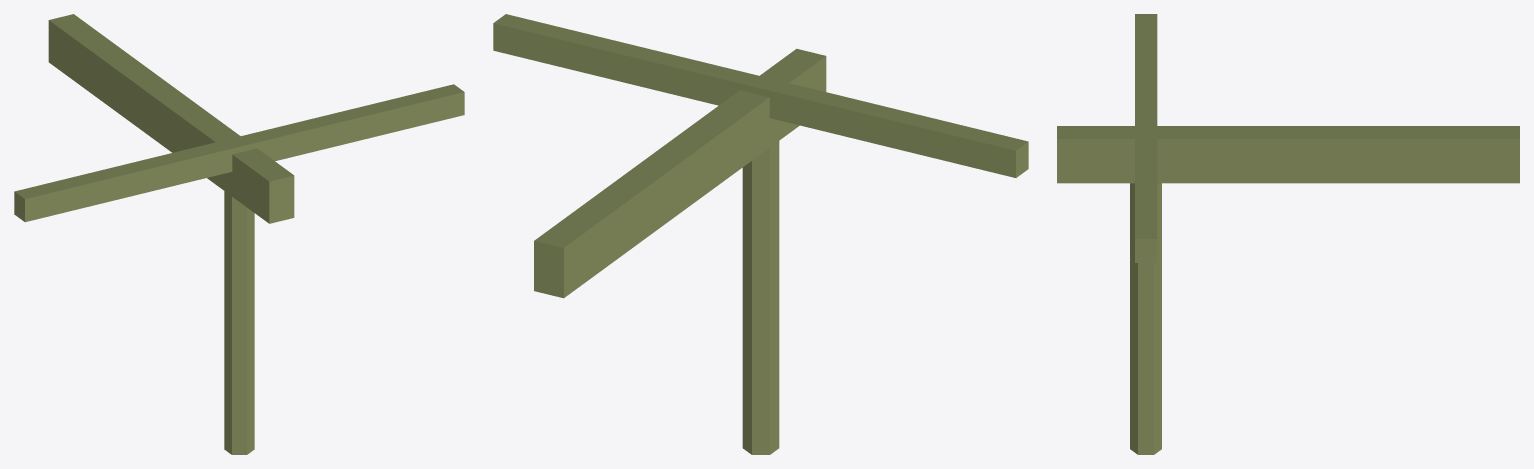
Rendered from SM_KitMarquesina_v3_LOD1.fbx.
The picture shows the model from 3 angles, left to right: view 1: azimuth 30°, elevation 25°; view 2: azimuth 150°, elevation 25°; view 3: azimuth 270°, elevation 25°; orthographic projection. The views are drawn at different scales.
Visible parts, largest first — view 1: SM_bloques.kit_marquesina_v3_LOD1; view 2: SM_bloques.kit_marquesina_v3_LOD1; view 3: SM_bloques.kit_marquesina_v3_LOD1.
Boxes of the visible parts, x1,y1,x2,y2 form: SM_bloques.kit_marquesina_v3_LOD1: [14, 14, 464, 454]; SM_bloques.kit_marquesina_v3_LOD1: [493, 14, 1028, 454]; SM_bloques.kit_marquesina_v3_LOD1: [1057, 14, 1519, 454].
Bounding box in the file's own units: 5.98 × 4 × 5.2.
